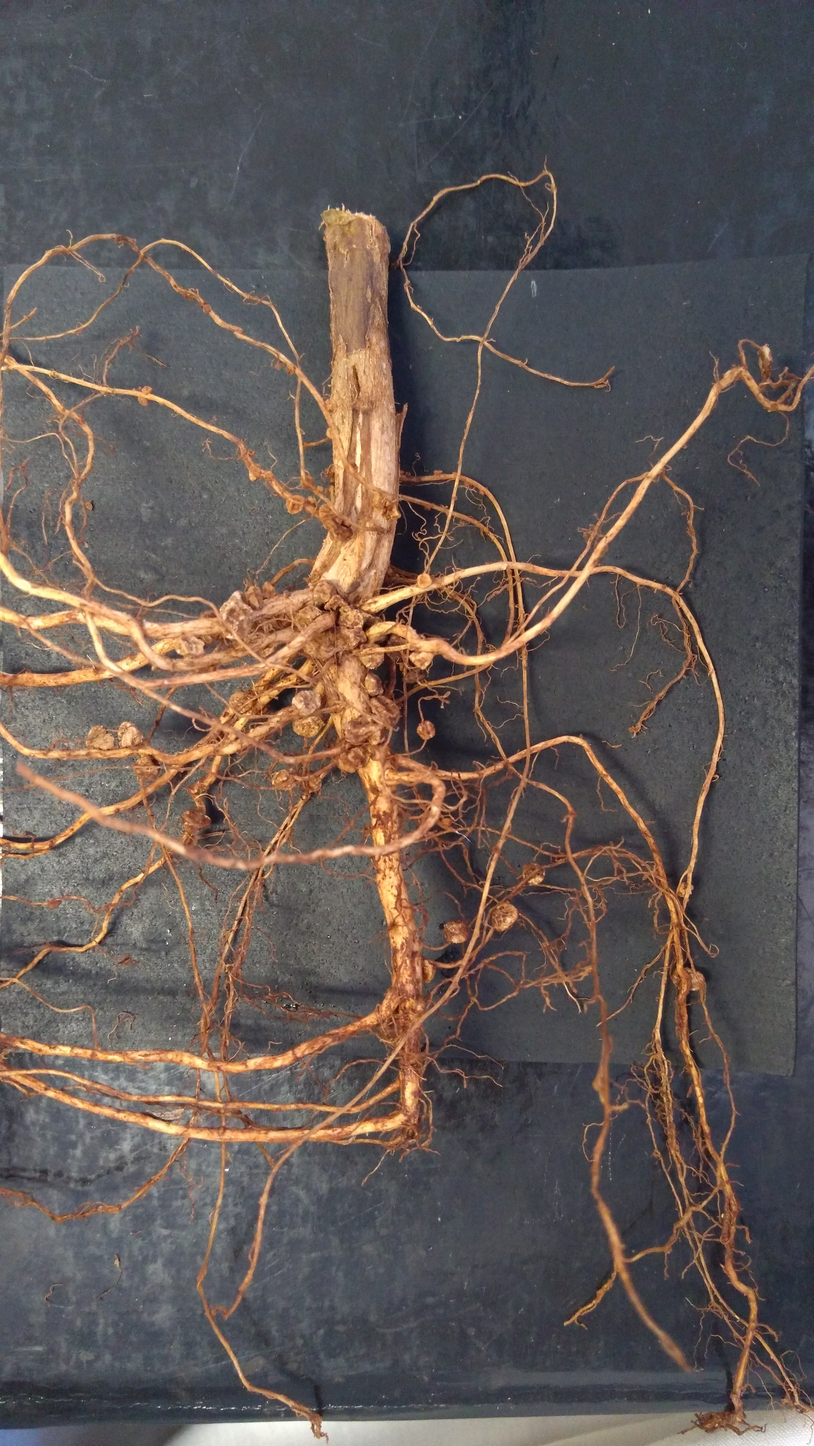nodule: (303, 627, 368, 659), (218, 600, 254, 641), (369, 694, 400, 726), (336, 745, 370, 774), (489, 901, 519, 933), (670, 967, 706, 991), (180, 808, 212, 834), (198, 609, 221, 645), (116, 721, 144, 749), (293, 605, 323, 631), (291, 690, 322, 715), (85, 725, 115, 750), (292, 714, 324, 737), (311, 579, 338, 606), (442, 919, 470, 945), (175, 633, 205, 657), (133, 754, 160, 780), (385, 635, 410, 662), (357, 646, 385, 670), (344, 718, 368, 745), (338, 604, 364, 628), (228, 691, 253, 715), (521, 862, 546, 886), (405, 996, 427, 1022), (408, 650, 435, 671), (363, 671, 385, 696), (271, 769, 297, 790), (367, 721, 387, 747), (244, 584, 264, 609), (757, 345, 772, 377), (300, 771, 322, 792), (285, 494, 305, 516), (383, 498, 402, 521), (323, 594, 348, 611), (416, 720, 436, 740), (317, 503, 338, 521), (227, 588, 248, 606), (402, 669, 426, 684), (422, 959, 436, 984), (352, 398, 373, 414), (258, 642, 279, 658), (370, 744, 388, 761), (676, 882, 694, 898), (248, 462, 262, 482), (262, 581, 277, 597), (417, 573, 433, 588), (373, 492, 385, 511), (324, 398, 338, 414), (326, 425, 341, 439), (300, 475, 313, 490), (47, 898, 62, 911), (598, 1089, 610, 1105), (591, 1077, 603, 1090), (281, 614, 292, 628), (307, 495, 318, 506), (286, 364, 296, 376), (141, 385, 153, 395), (202, 303, 212, 314), (137, 396, 148, 406), (325, 466, 335, 477), (441, 817, 453, 826), (84, 499, 93, 510), (259, 706, 270, 715), (283, 589, 292, 598), (316, 485, 324, 493), (334, 515, 342, 523), (343, 520, 352, 527), (433, 469, 443, 475), (463, 480, 470, 487), (483, 527, 490, 534), (329, 477, 335, 485), (387, 567, 393, 575), (247, 449, 254, 455), (424, 504, 431, 510), (506, 585, 512, 592), (479, 489, 485, 495), (405, 471, 411, 476), (399, 469, 404, 474)
